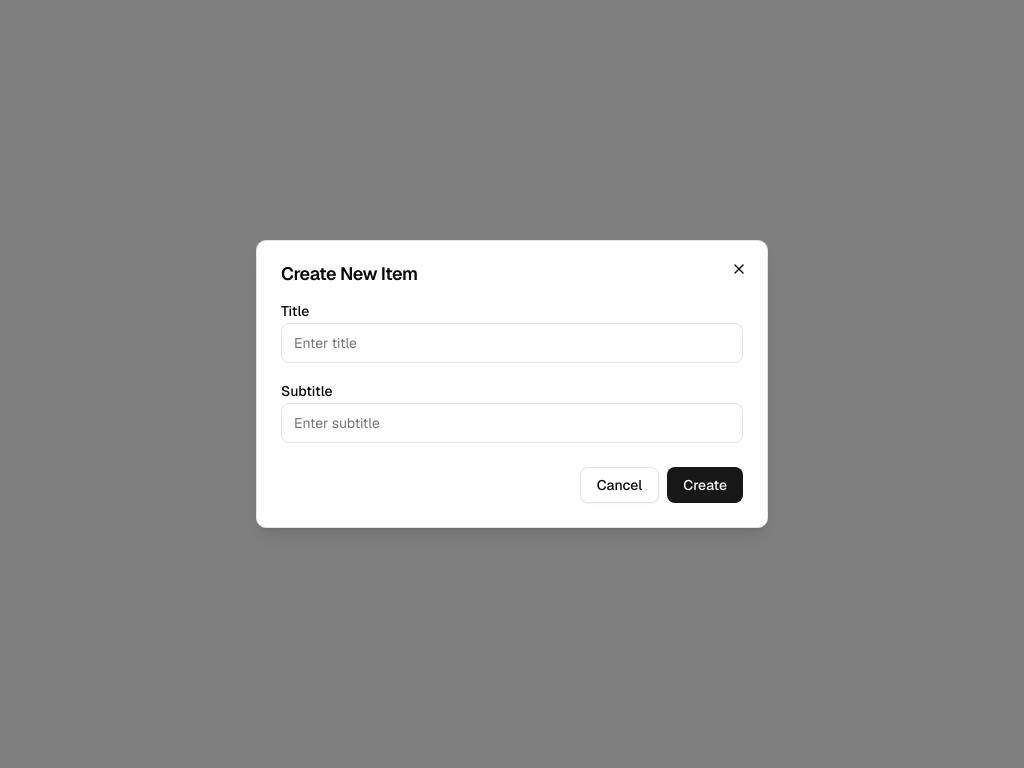
Test: ItemForm › shows validation errors for empty fields
Click the button "Create": x=705, y=485 top-left (667, 467), bottom-right (743, 503)
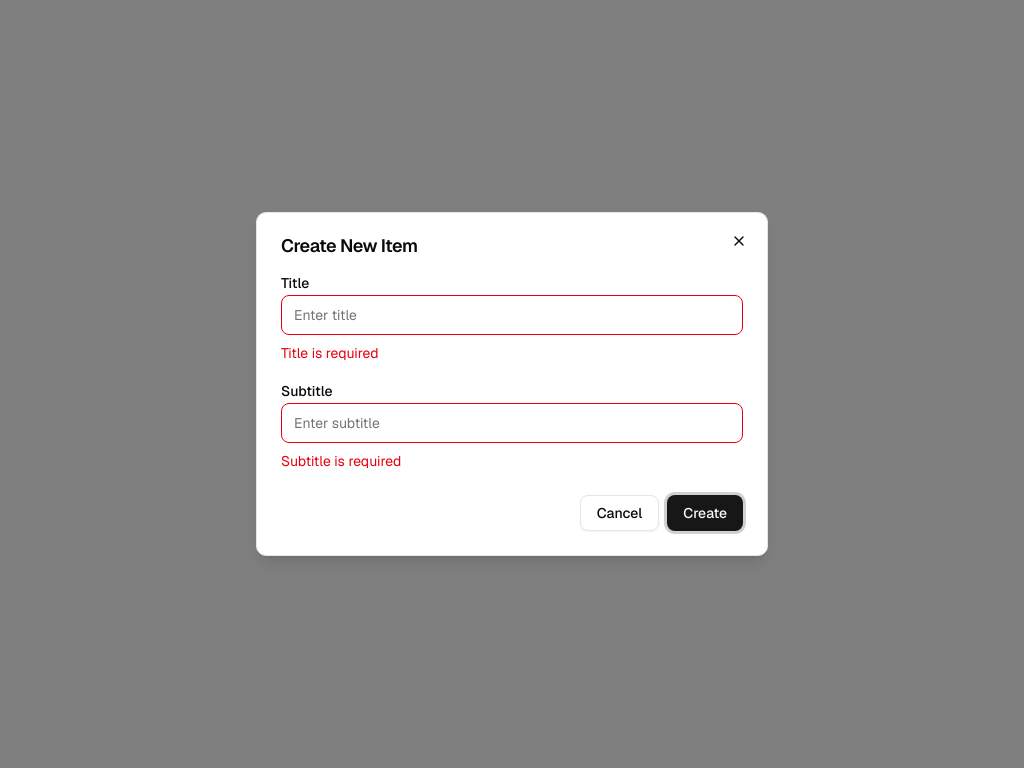
Expected: the text "Title is required" is shown, top-left (281, 344), bottom-right (379, 362)
Expected: the text "Subtitle is required" is shown, top-left (281, 452), bottom-right (401, 470)
